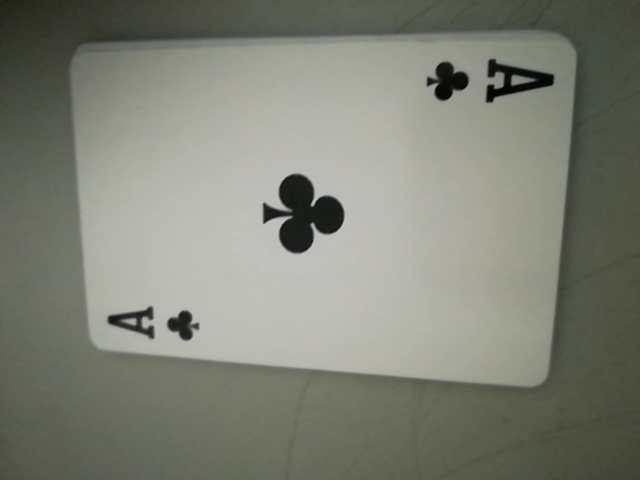mh a: (425, 50, 552, 115), (100, 296, 210, 350)
